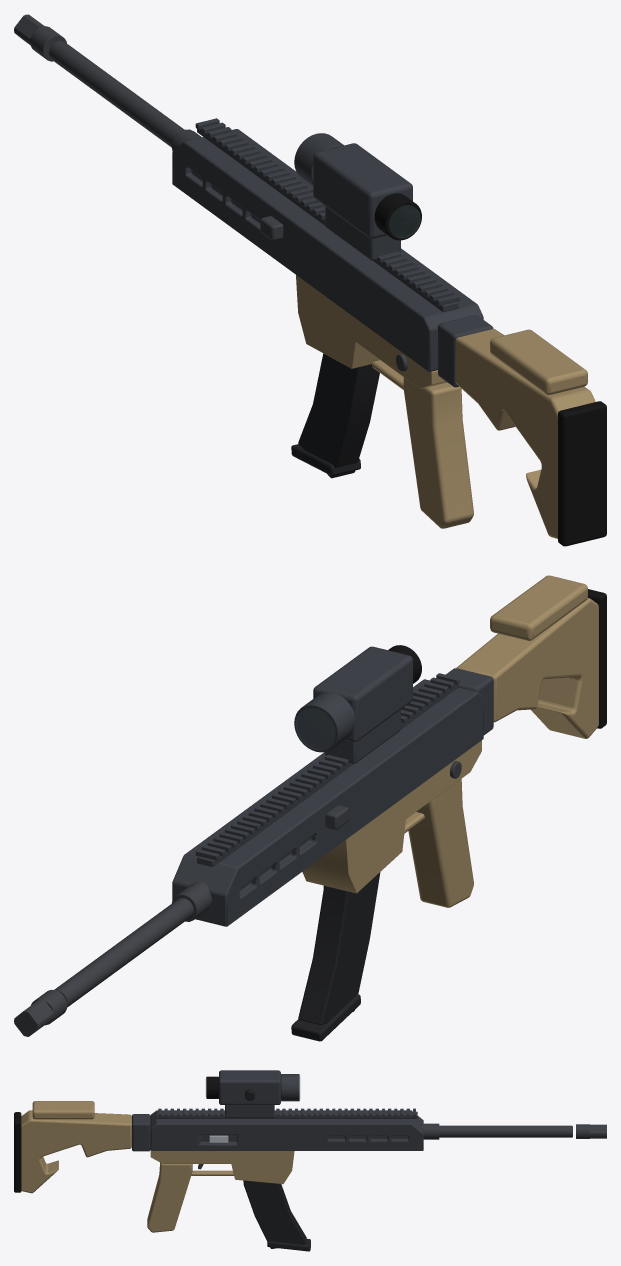
Rendered from triburst.glb.
3 views of the same model, one above another, from view 1: azimuth 30°, elevation 25°; view 2: azimuth 150°, elevation 25°; view 3: azimuth 270°, elevation 25° (orthographic). The views are drawn at different scales.
Visible parts, largest first — view 1: upper, stock, grip, butt, mag_body, optic_body, lower, rail_top_ribs, cheek, barrel, optic_eye, hinge (+5 smaller); view 2: upper, stock, mag_body, lower, grip, optic_body, rail_top_ribs, cheek, barrel, optic_obj, flash_hider, optic_mount (+5 smaller); view 3: upper, stock, lower, mag_body, grip, optic_body, barrel, rail_top, cheek, rail_top_ribs, hinge, optic_mount (+6 smaller).
Part boxes in pixels (bbox=[...]): upper: bbox=[172, 129, 483, 371]; stock: bbox=[455, 329, 595, 538]; grip: bbox=[403, 377, 473, 528]; butt: bbox=[558, 401, 606, 546]; mag_body: bbox=[298, 353, 379, 478]; optic_body: bbox=[313, 143, 412, 238]; lower: bbox=[296, 275, 447, 388]; rail_top_ribs: bbox=[195, 118, 459, 305]; cheek: bbox=[490, 329, 587, 394]; barrel: bbox=[49, 41, 183, 147]; optic_eye: bbox=[374, 193, 421, 240]; hinge: bbox=[438, 315, 493, 387]; upper: bbox=[172, 679, 483, 926]; stock: bbox=[456, 598, 598, 738]; mag_body: bbox=[298, 872, 380, 1025]; lower: bbox=[302, 740, 481, 893]; grip: bbox=[408, 779, 473, 907]; optic_body: bbox=[313, 646, 412, 742]; rail_top_ribs: bbox=[195, 673, 459, 860]; cheek: bbox=[490, 575, 587, 640]; barrel: bbox=[54, 898, 193, 1007]; optic_obj: bbox=[294, 692, 355, 752]; flash_hider: bbox=[14, 989, 67, 1036]; optic_mount: bbox=[325, 709, 400, 763]; upper: bbox=[150, 1110, 423, 1150]; stock: bbox=[21, 1110, 131, 1193]; lower: bbox=[150, 1150, 294, 1184]; mag_body: bbox=[243, 1180, 306, 1248]; grip: bbox=[147, 1162, 192, 1232]; optic_body: bbox=[219, 1070, 280, 1104]; barrel: bbox=[439, 1125, 572, 1137]; rail_top: bbox=[156, 1111, 417, 1118]; cheek: bbox=[32, 1101, 94, 1119]; rail_top_ribs: bbox=[158, 1108, 415, 1116]; hinge: bbox=[132, 1114, 150, 1151]; optic_mount: bbox=[225, 1105, 274, 1117].
Size of the model in its own units: 0.072 by 0.3069 by 0.955.
